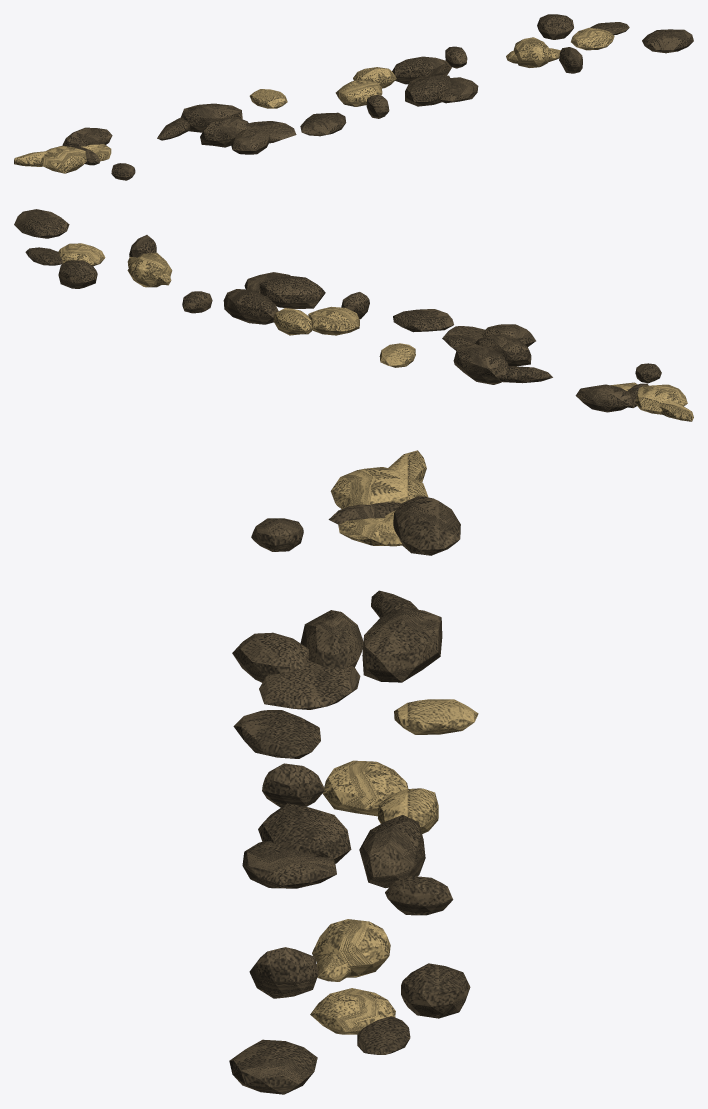
The model's file is north-west-shore.glb.
3 views of the same model, one above another, from view 1: azimuth 30°, elevation 25°; view 2: azimuth 150°, elevation 25°; view 3: azimuth 270°, elevation 25° (orthographic). The views are drawn at different scales.
Visible parts, largest first — view 1: north-west-shore; view 2: north-west-shore; view 3: north-west-shore.
Boxes of the visible parts, x1,y1,x2,y2 form: north-west-shore: (14,14,693,180); north-west-shore: (14,209,693,421); north-west-shore: (229,450,478,1094).
Size of the model in its own units: 26.13 by 1.07 by 4.41.
Materials: 1 (1 with a texture image).
